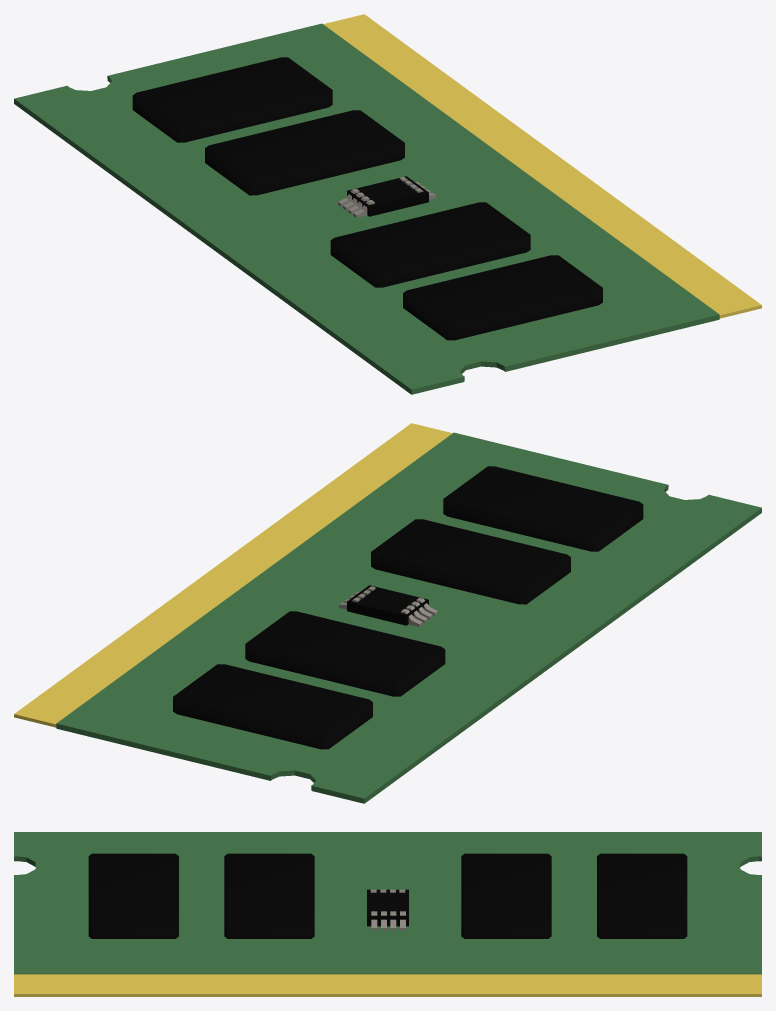
Rendered from ozu.fbx.
3 views of the same model, one above another, from view 1: azimuth 30°, elevation 25°; view 2: azimuth 150°, elevation 25°; view 3: azimuth 270°, elevation 25° (orthographic). The views are drawn at different scales.
Parts seen in each view (by area): view 1: ozu; view 2: ozu; view 3: ozu.
Boxes of the visible parts, x1,y1,x2,y2 form: ozu: (14,14,761,394); ozu: (14,423,761,803); ozu: (14,832,761,996).
Bounding box in the file's own units: 91.79 × 9.38 × 180.
